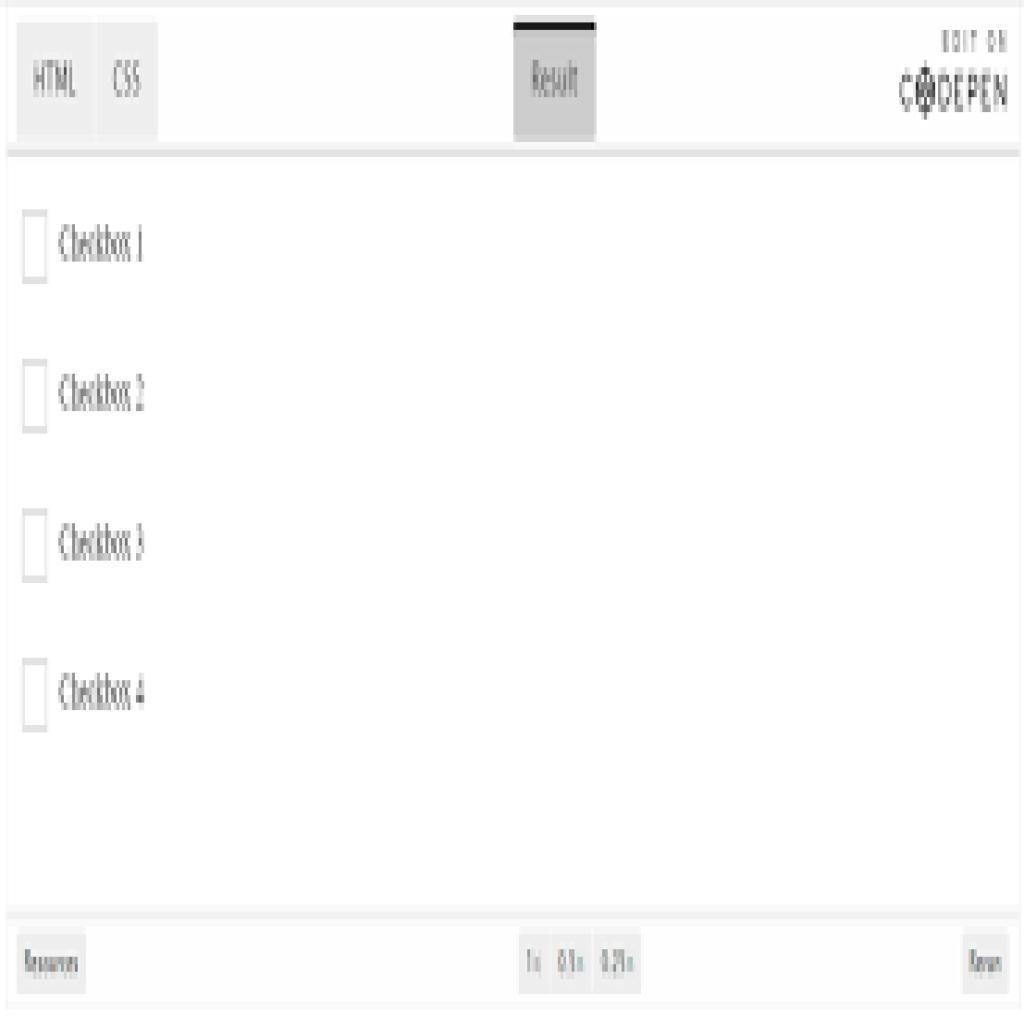checkbox: (22, 659, 56, 759), (20, 506, 52, 586), (22, 213, 50, 284), (24, 361, 47, 436)
